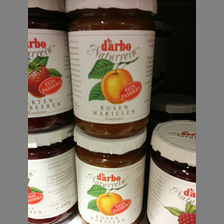jam: (65, 1, 156, 137), (74, 126, 147, 224), (28, 1, 73, 133), (146, 120, 196, 224), (28, 127, 77, 224)
